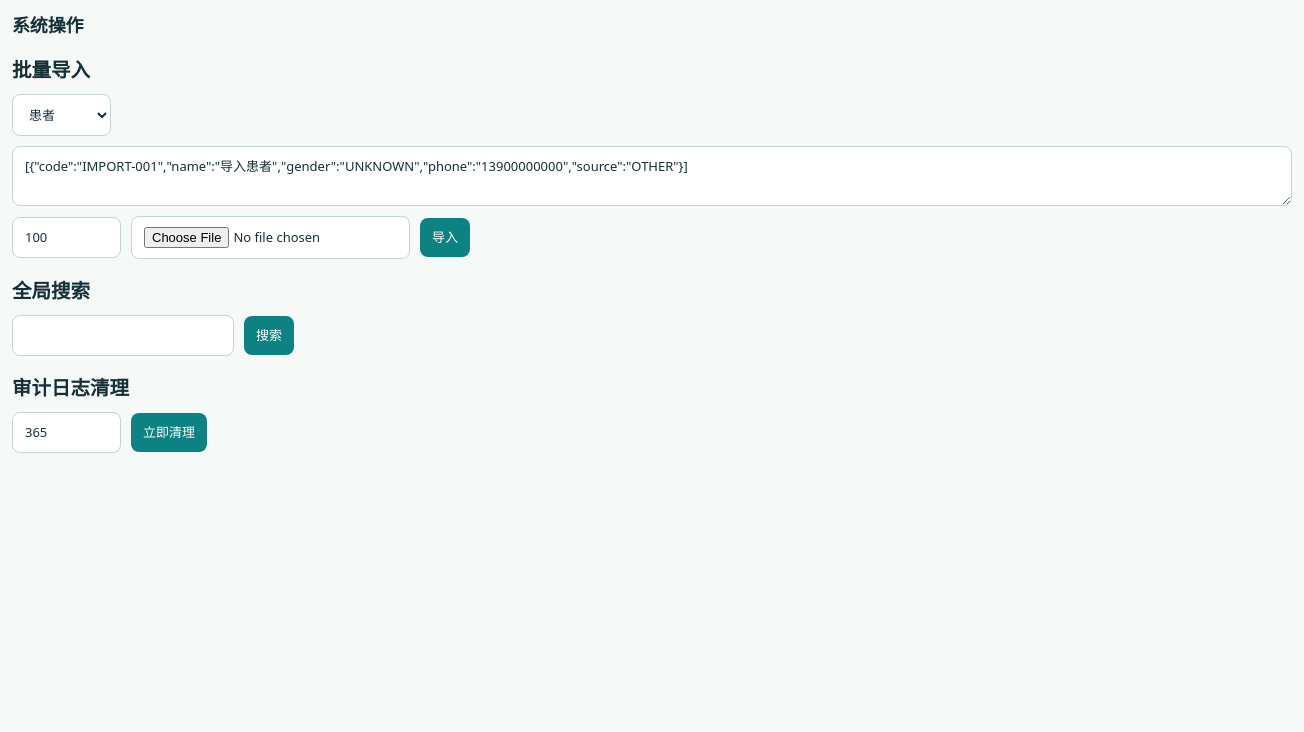
Test: SystemOperationsPage › renders search results without ids using the row index
The width and height of the screenshot is (1304, 732).
Type "Demo" into the field named "搜索关键词".
click(123, 336); type("Demo")  # box 12,315 -> 234,356
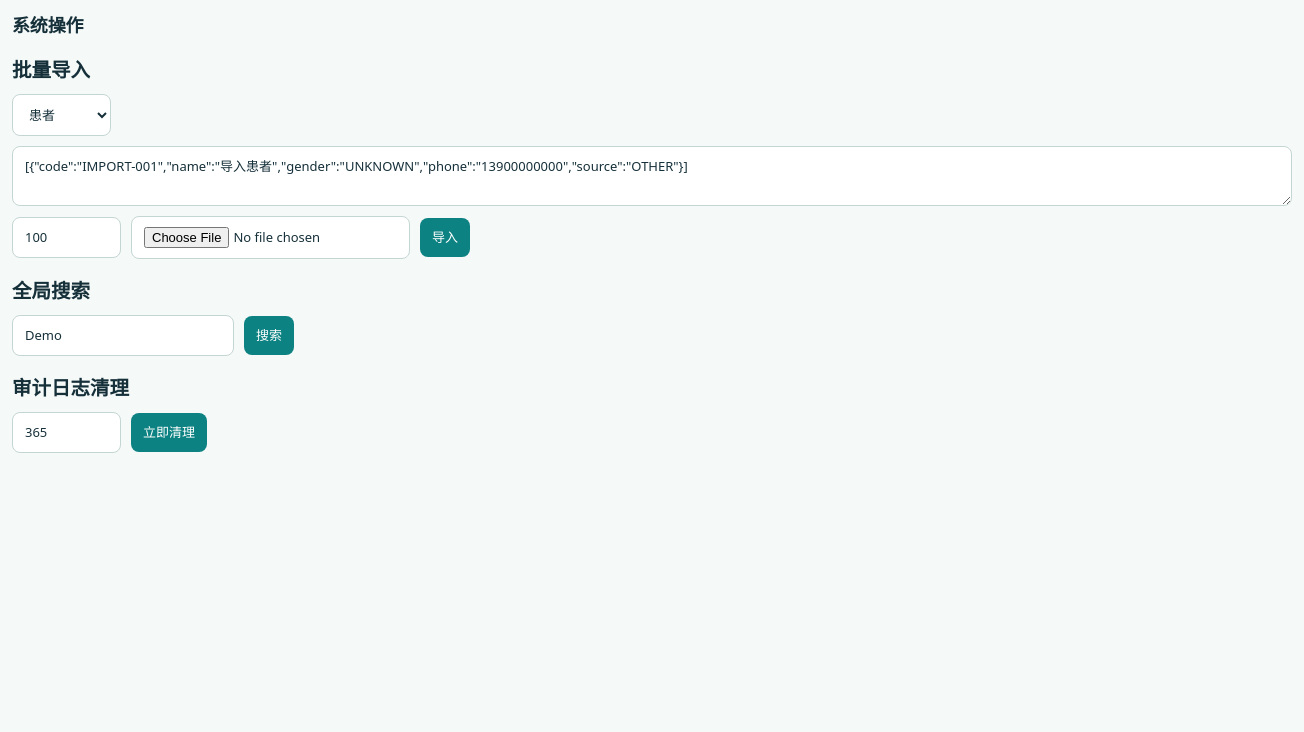
Click the button "搜索".
click(269, 336)  # box 244,316 -> 294,355
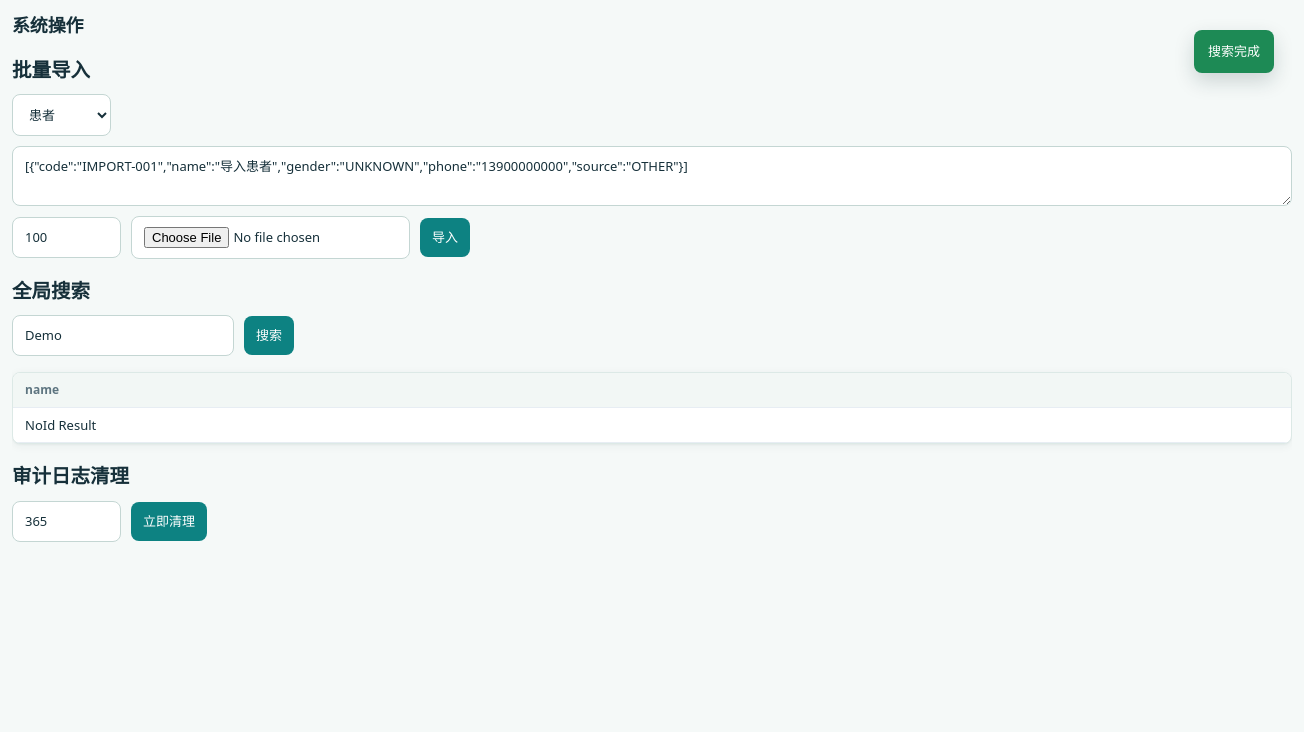
Result: the text "NoId Result" is shown at 13,407 -> 1291,443
